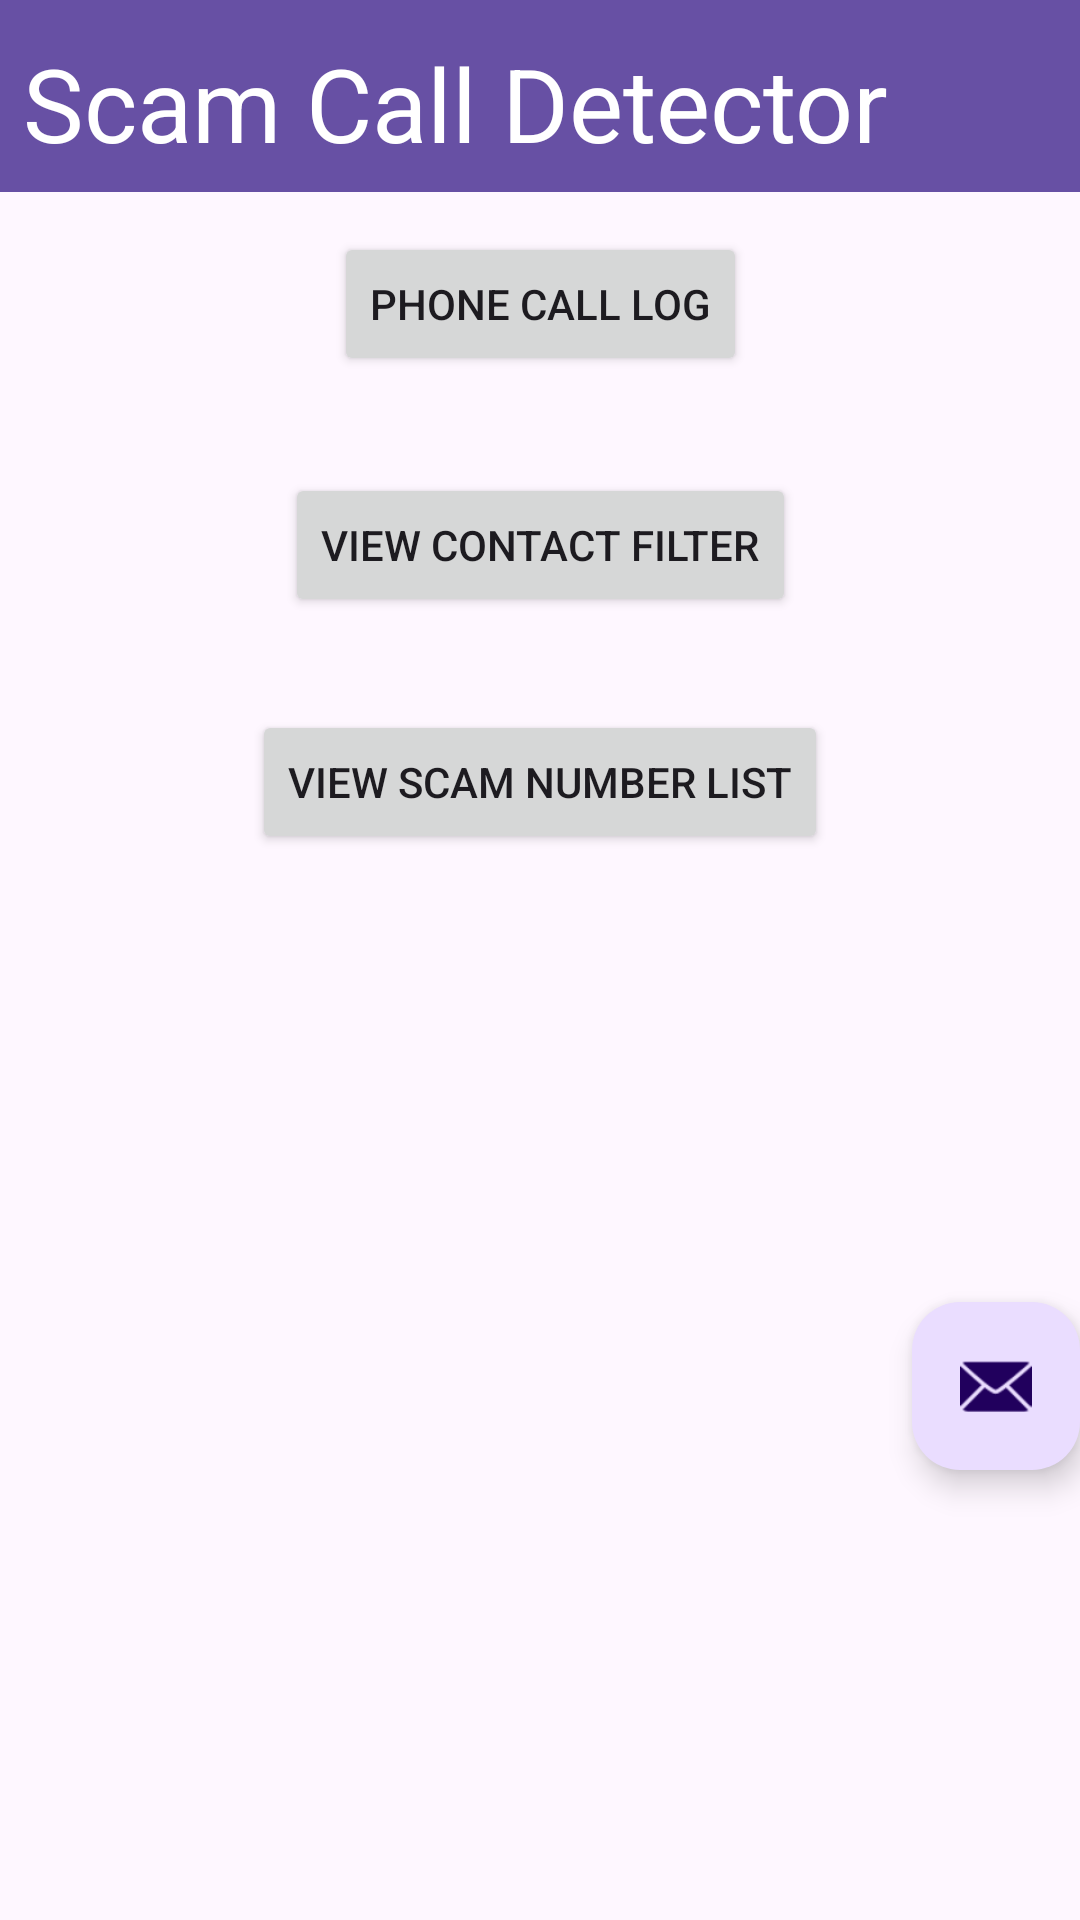

Named icons in this screenshot (1080px×1920px) and their bounding boxes, (x1, y1, x2, y2):
email: (912, 1302, 1080, 1470)
